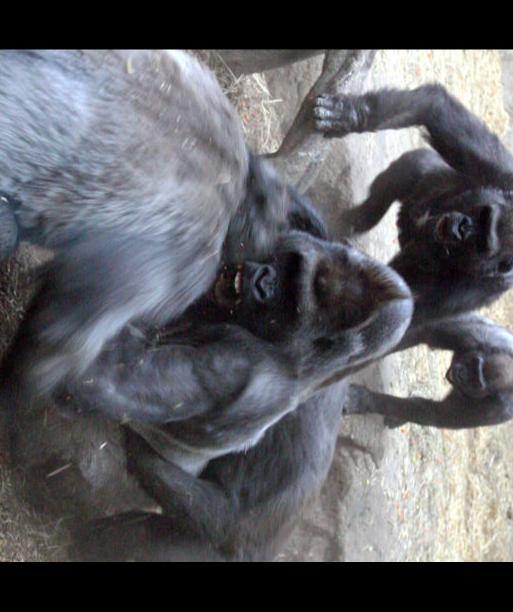gorille_Autres: (0, 74, 513, 521)
